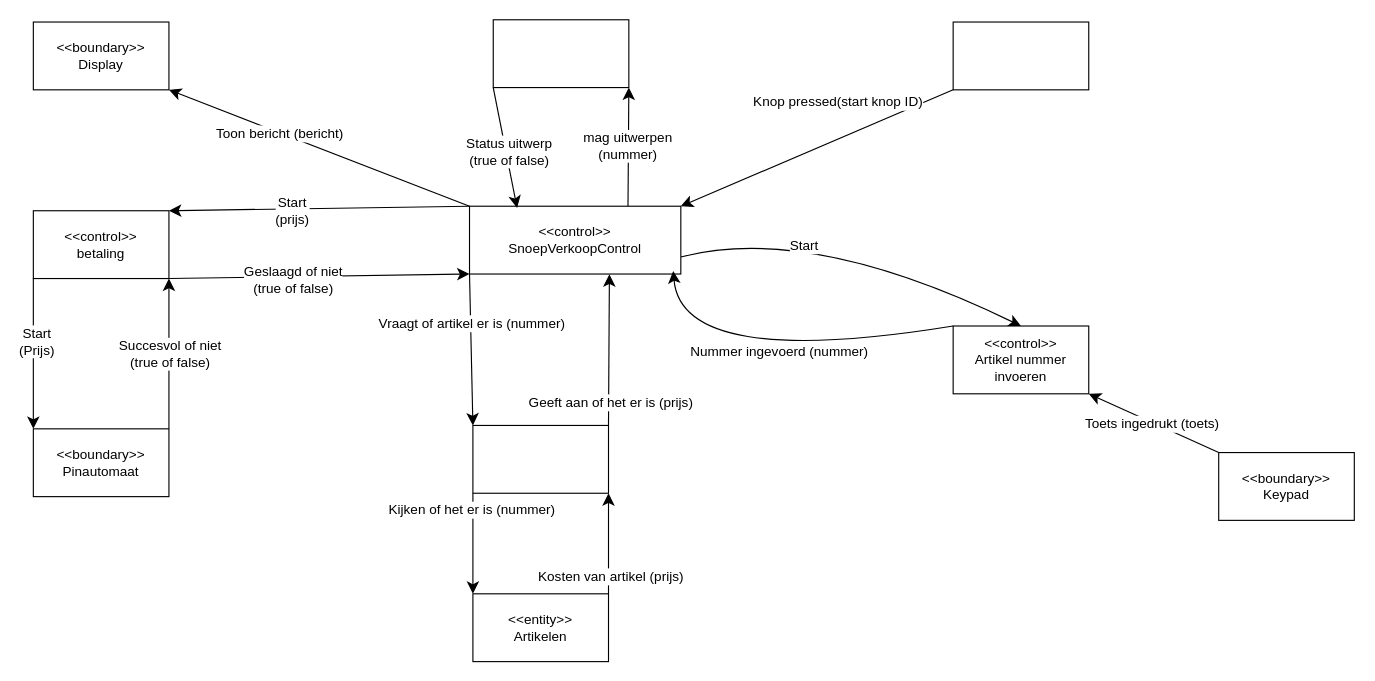
Image size: 1375x681. Some labels were removed from this diagram. The centre of each missing label's shape, as x and y in pixels:
<<boundary>> Artikel check: (540,458)
<<boundary>> StartKnop: (1020,55)
<<boundary>> Uitwerp: (560,53)
